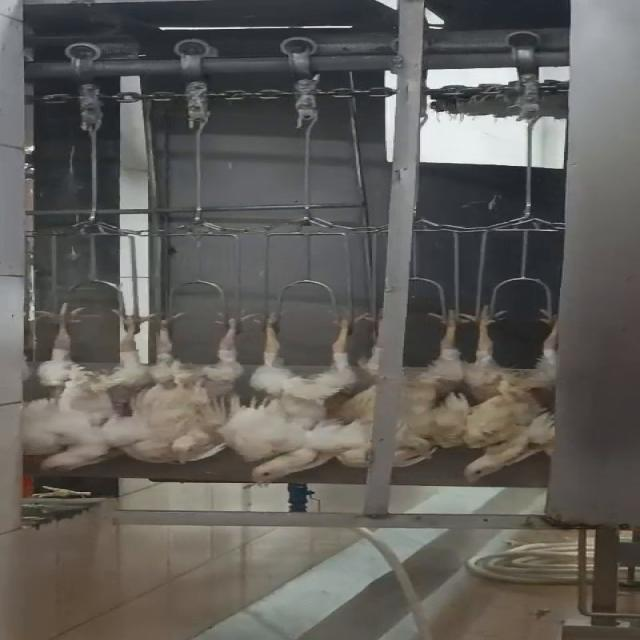chicken: (0, 306, 152, 477), (242, 307, 384, 484), (446, 298, 579, 484), (336, 298, 475, 472), (137, 307, 272, 466)
